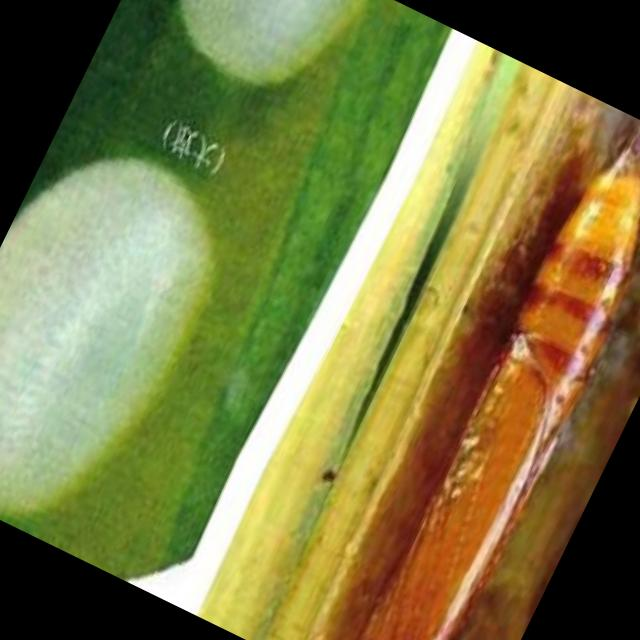whorl-maggot: (333, 111, 640, 640)
